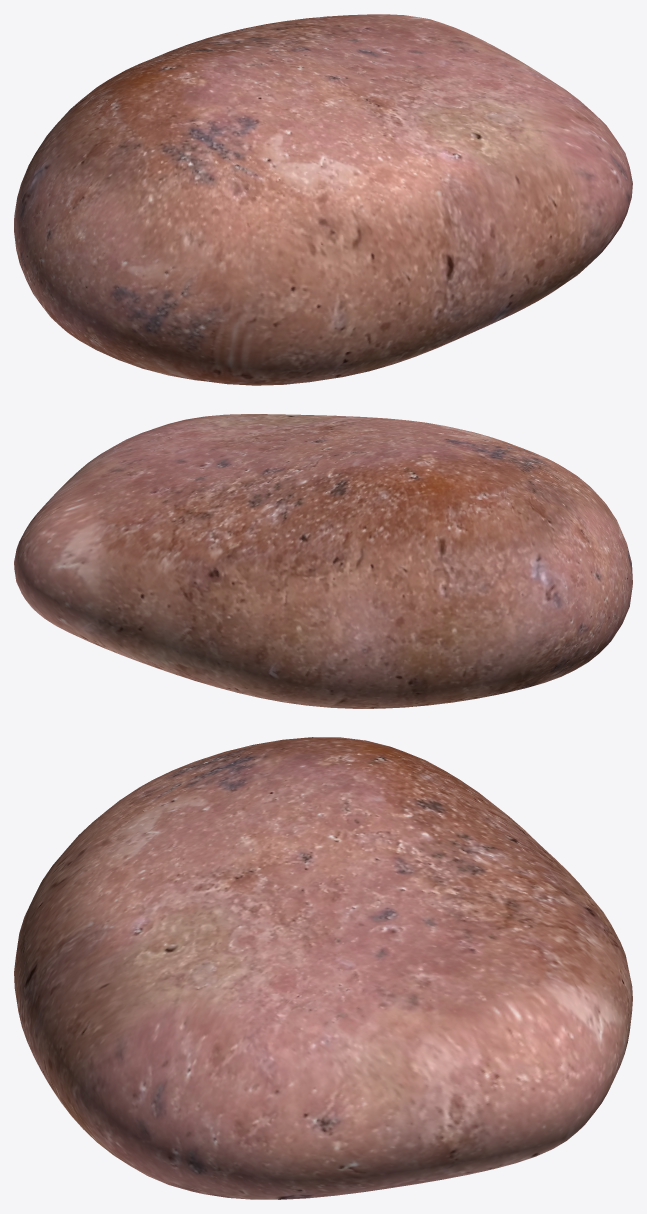
File: BeachRock3.fbx
3 renders of one model, top to bottom at view 1: azimuth 30°, elevation 25°; view 2: azimuth 150°, elevation 25°; view 3: azimuth 270°, elevation 25°, orthographic. The views are drawn at different scales.
Parts seen in each view (by area): view 1: BeachRock3_LOD0; view 2: BeachRock3_LOD0; view 3: BeachRock3_LOD0.
Boxes of the visible parts, x1=… form: BeachRock3_LOD0: x1=14, y1=14, x2=632, y2=385; BeachRock3_LOD0: x1=14, y1=414, x2=632, y2=708; BeachRock3_LOD0: x1=14, y1=737, x2=632, y2=1199.
Size of what is drawn, in the model's own units: 22.45 by 9 by 18.11.
